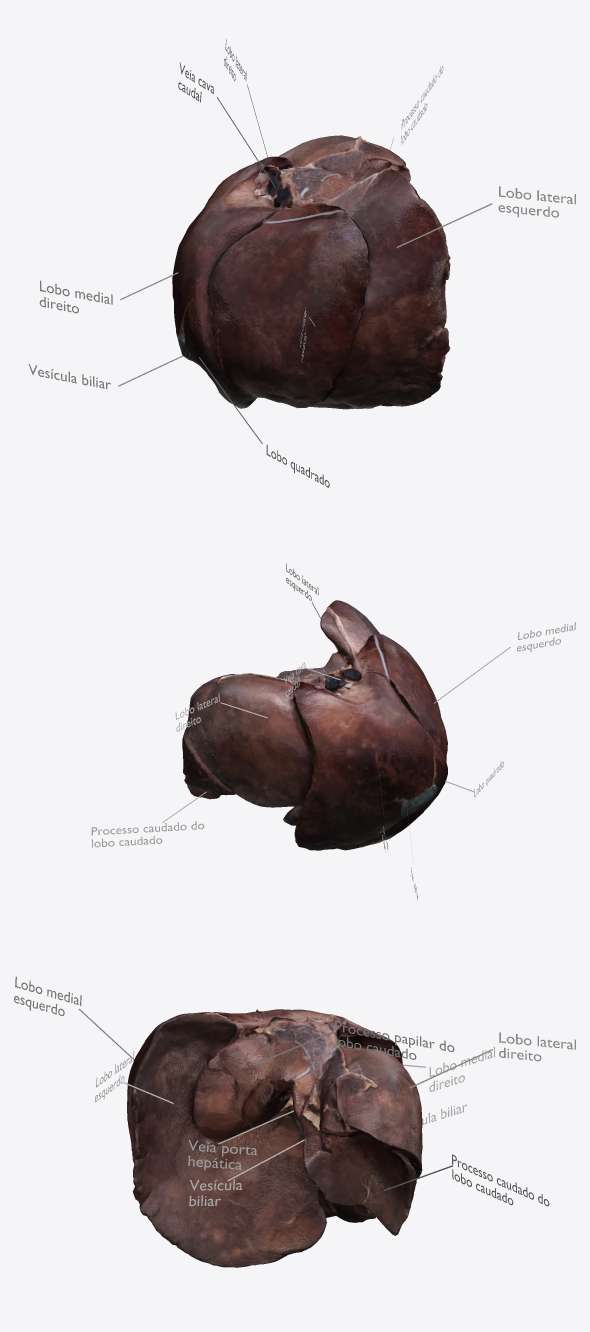
The model's file is fígado.glb.
3 renders of one model, top to bottom at view 1: azimuth 30°, elevation 25°; view 2: azimuth 150°, elevation 25°; view 3: azimuth 270°, elevation 25°, orthographic. The views are drawn at different scales.
Visible parts, largest first — view 1: 3DModel_LowPoly, Texto.002; view 2: 3DModel_LowPoly, Texto.045; view 3: 3DModel_LowPoly, Texto.058, Texto.043, Texto.005, Texto.051, Texto.038.
Boxes of the visible parts, box(x1,y1,x2,y2) form: 3DModel_LowPoly: box(172, 135, 450, 409); Texto.002: box(498, 186, 575, 217); 3DModel_LowPoly: box(182, 600, 447, 850); Texto.045: box(91, 821, 204, 847); 3DModel_LowPoly: box(127, 1009, 422, 1267); Texto.058: box(335, 1020, 454, 1059); Texto.043: box(452, 1154, 549, 1206); Texto.005: box(188, 1140, 257, 1170); Texto.051: box(14, 976, 81, 1015); Texto.038: box(499, 1032, 575, 1061).
Size of the model in its own units: 3.61 by 1.98 by 3.67.
1 material, 1 textured.
